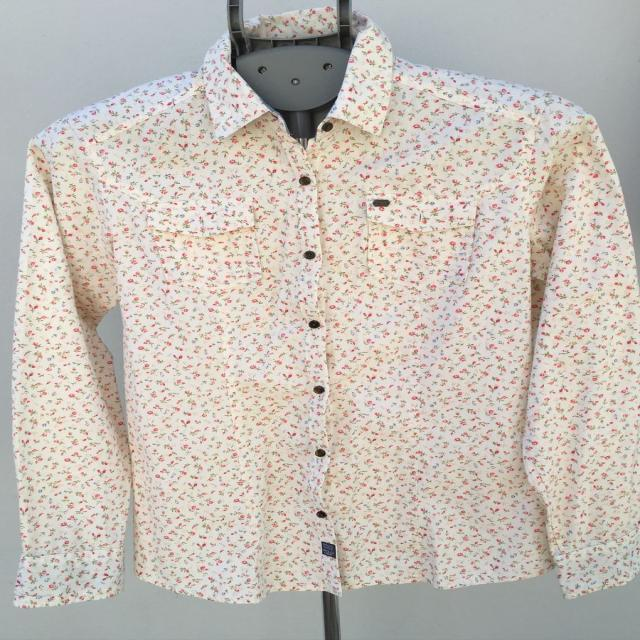long sleeve shirt: (8, 9, 640, 611)
